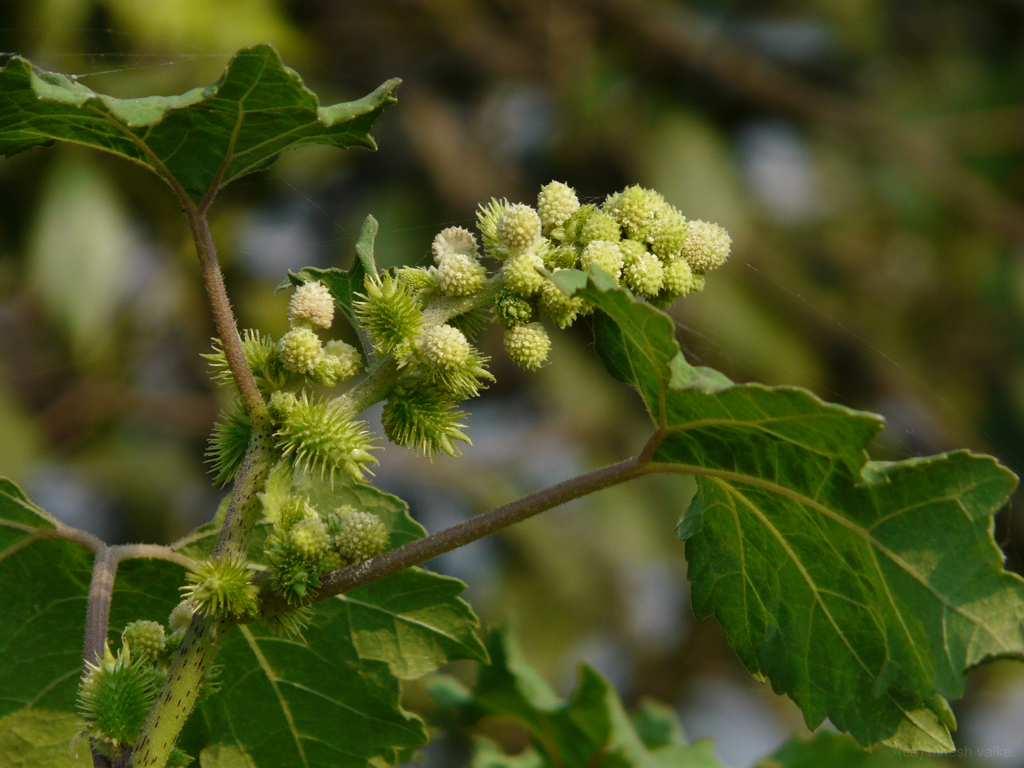Cocklebur: (189, 156, 739, 529)
